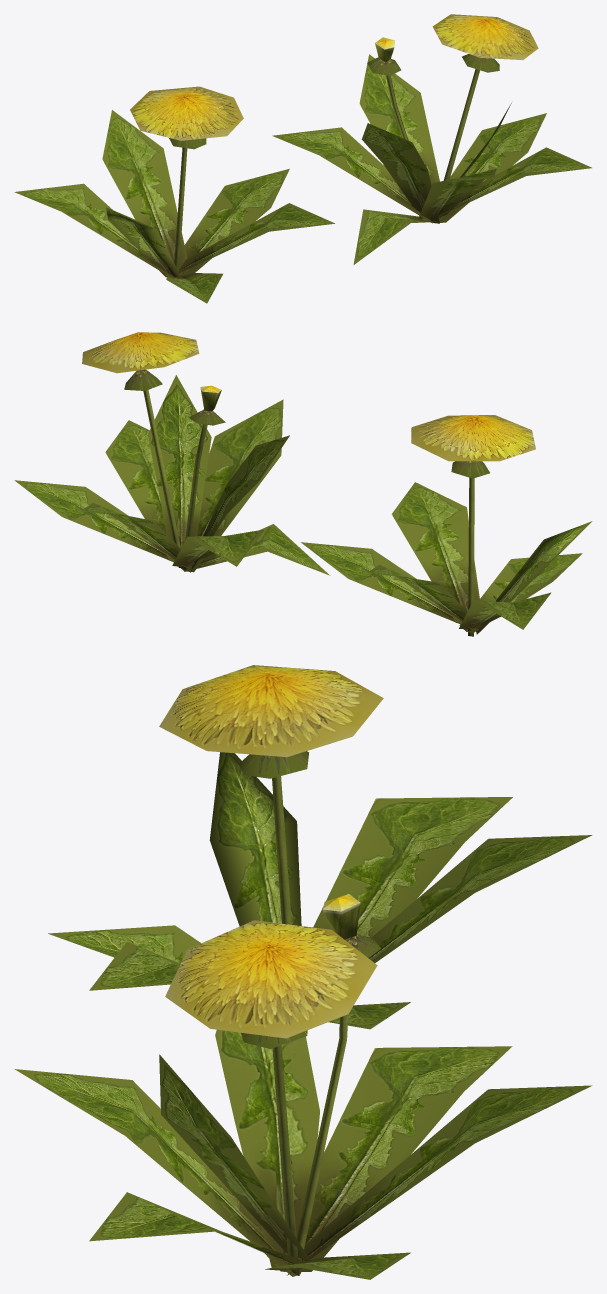
The model's file is Dandelion_m.FBX.
3 renders of one model, top to bottom at view 1: azimuth 30°, elevation 25°; view 2: azimuth 150°, elevation 25°; view 3: azimuth 270°, elevation 25°, orthographic. The views are drawn at different scales.
Parts seen in each view (by area): view 1: Dandelion002, Dandelion001; view 2: Dandelion002, Dandelion001; view 3: Dandelion002, Dandelion001.
Part boxes in pixels (x1=…): Dandelion002: x1=272, y1=14, x2=591, y2=264; Dandelion001: x1=14, y1=86, x2=334, y2=303; Dandelion002: x1=14, y1=332, x2=330, y2=575; Dandelion001: x1=300, y1=415, x2=592, y2=636; Dandelion002: x1=14, y1=894, x2=592, y2=1279; Dandelion001: x1=48, y1=665, x2=592, y2=1029.
Bounding box in the file's own units: 106 × 40.2 × 56.83.
